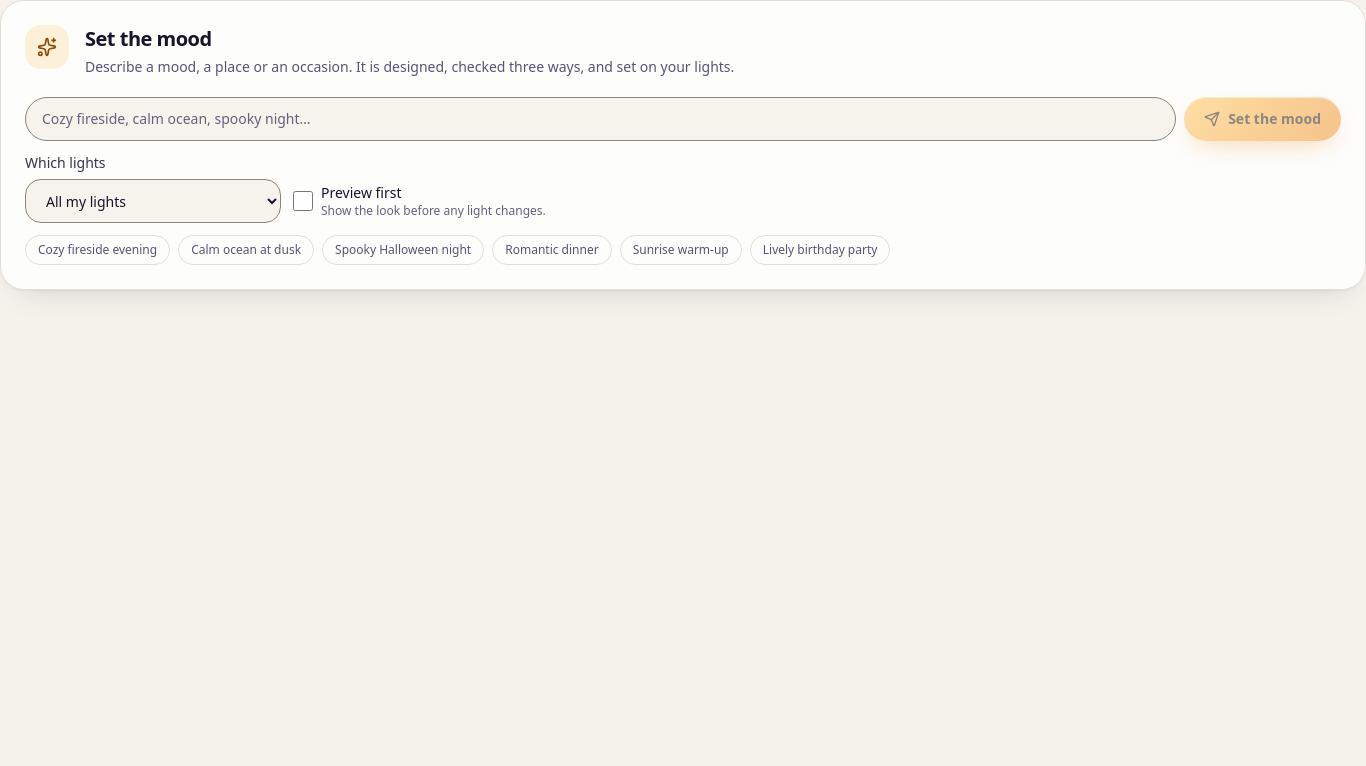
Test: Set the mood: the box › shows the look and waits for a press when Preview first is on
This screenshot has width=1366, height=766.
Click the checkbox labelled "Preview first Show the look before any light changes.". click: {"x": 303, "y": 201}
box: [293, 191, 313, 211]
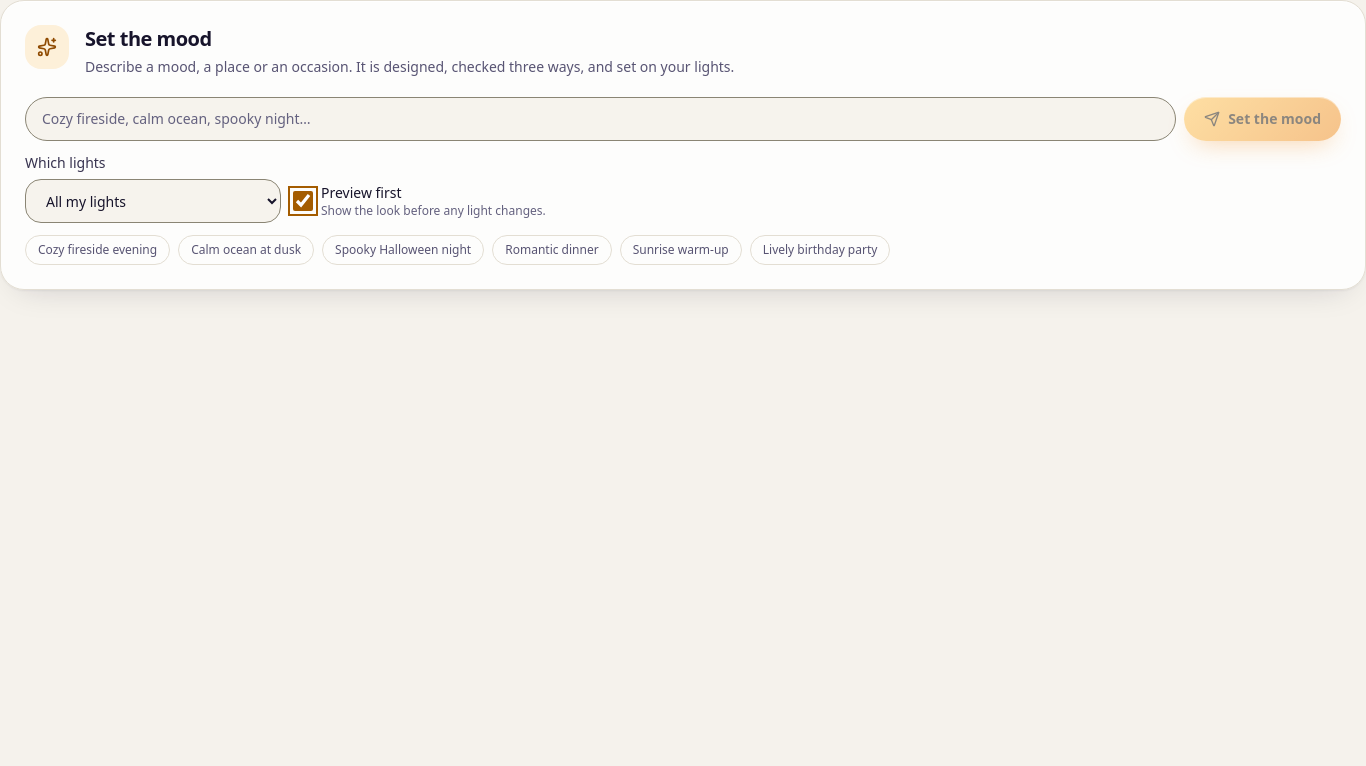
Type "cozy fireside evening" into the field named "Describe the mood". click: {"x": 601, "y": 119}
box: [25, 97, 1176, 141]
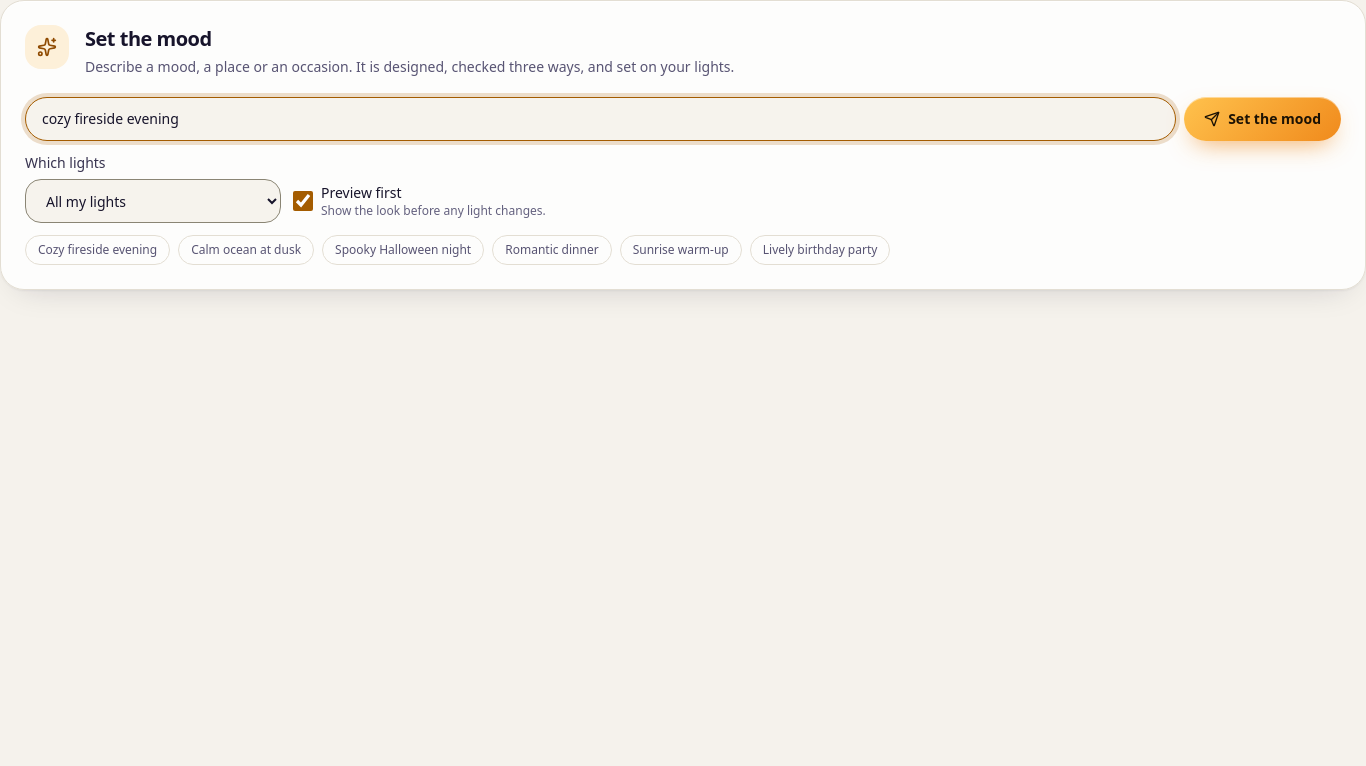
Click the button "Set the mood". click: {"x": 1263, "y": 119}
box: [1184, 97, 1341, 141]
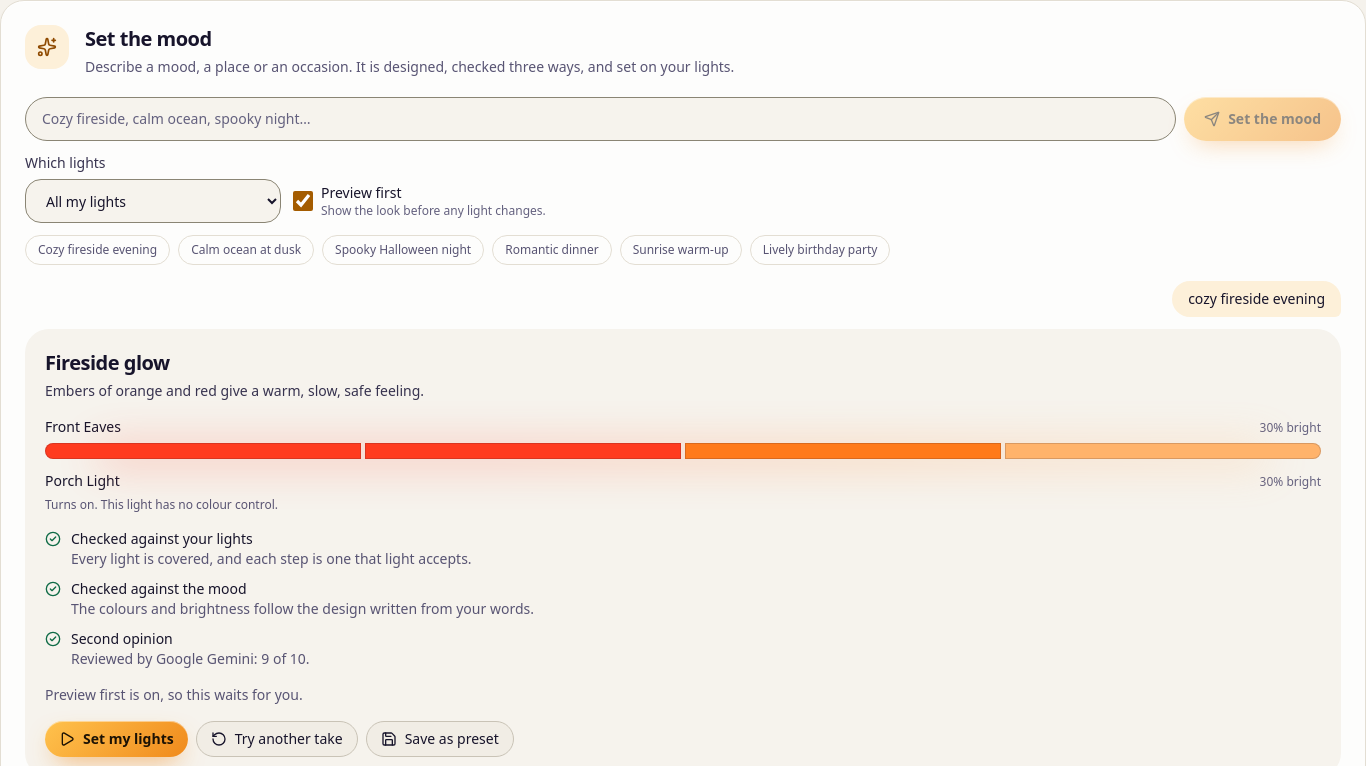
Expected: the heading "Fireside glow" is shown, [45, 349, 170, 376]
Expected: the text "Preview first is on, so this waits for you." is shown, [45, 685, 303, 704]
Click the button "Set my lights". click: {"x": 116, "y": 739}
box: [45, 721, 188, 757]
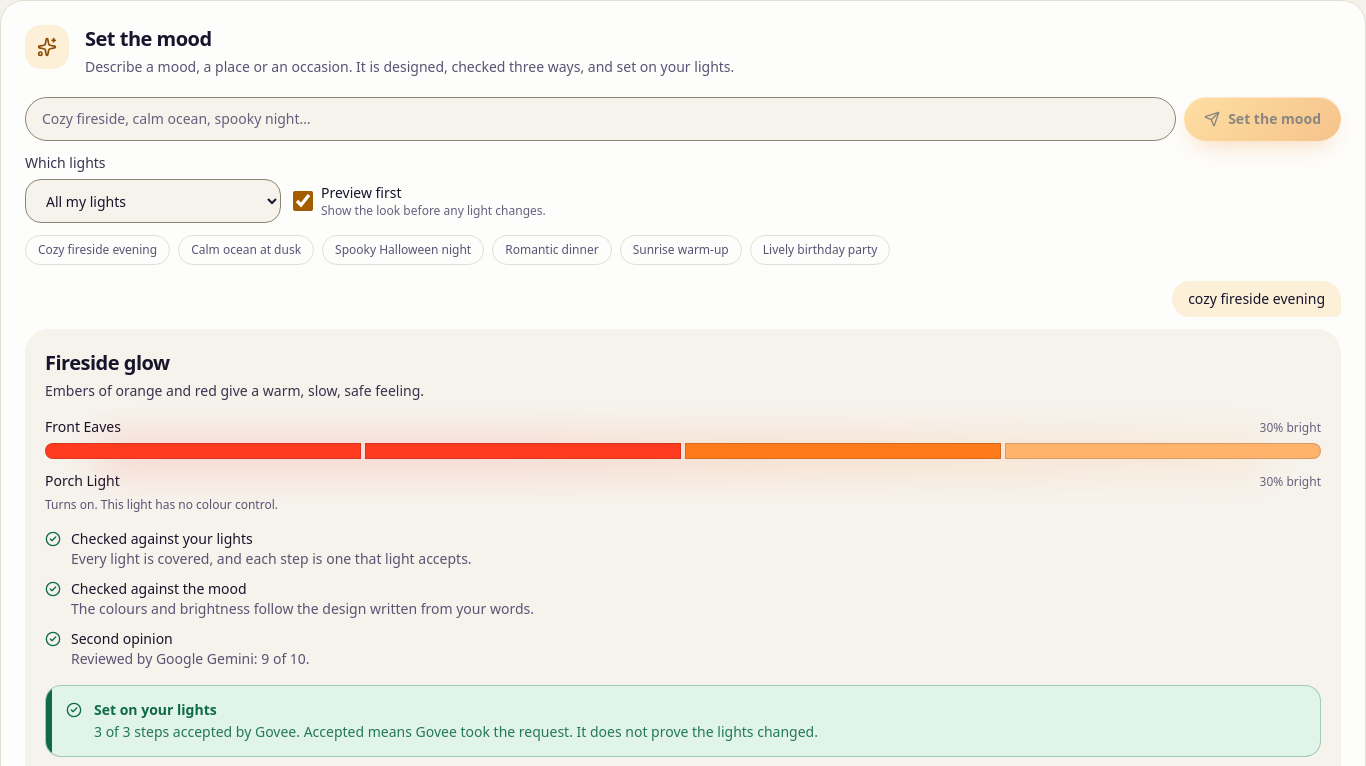
Expected: the text "Set on your lights" is shown, [94, 700, 217, 719]
